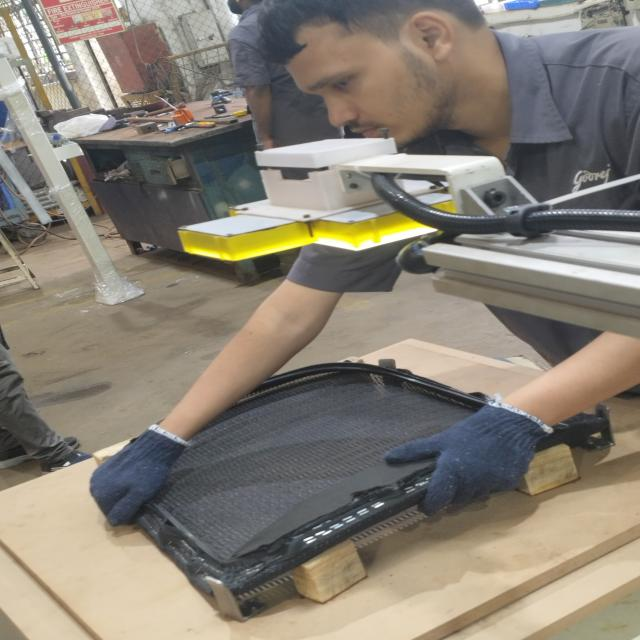Gloves-Detection: (376, 423, 555, 510), (94, 428, 170, 531)
